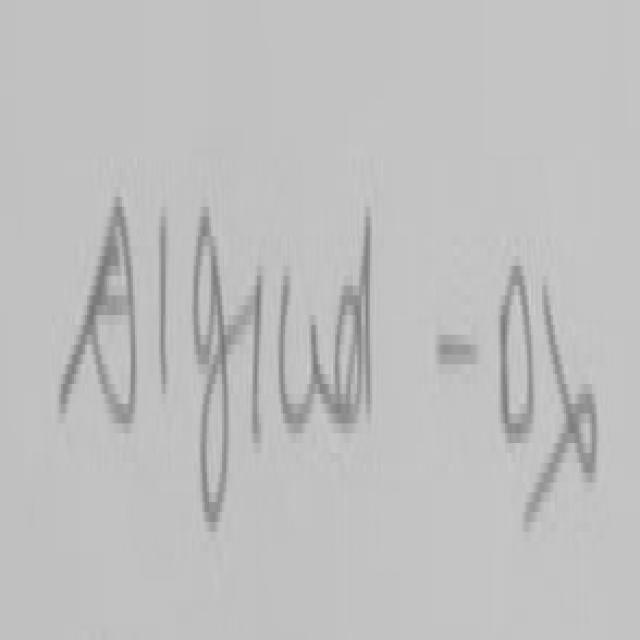A: (61, 197, 135, 423)
D: (503, 266, 536, 438)
c: (281, 276, 313, 428)
d: (335, 217, 372, 418)
g: (194, 207, 229, 517)
i: (307, 310, 336, 421), (253, 276, 260, 438)
l: (159, 217, 165, 389)
x: (527, 286, 599, 517)
